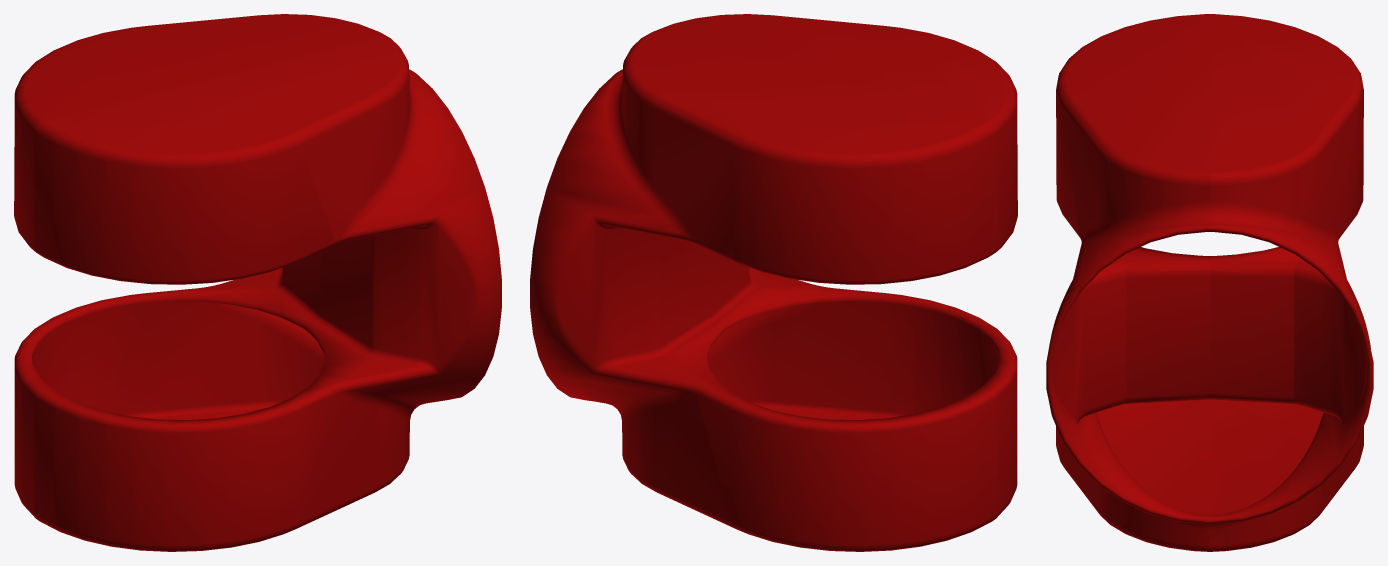
The picture shows the model from 3 angles, left to right: view 1: azimuth 30°, elevation 25°; view 2: azimuth 150°, elevation 25°; view 3: azimuth 270°, elevation 25°; orthographic projection. The views are drawn at different scales.
Visible parts, largest first — view 1: S1; view 2: S1; view 3: S1.
Part boxes in pixels (x1=…): S1: x1=14, y1=14, x2=501, y2=551; S1: x1=530, y1=14, x2=1017, y2=551; S1: x1=1046, y1=14, x2=1373, y2=551.
Size of the model in its own units: 0.1938 by 0.1524 by 0.195.
